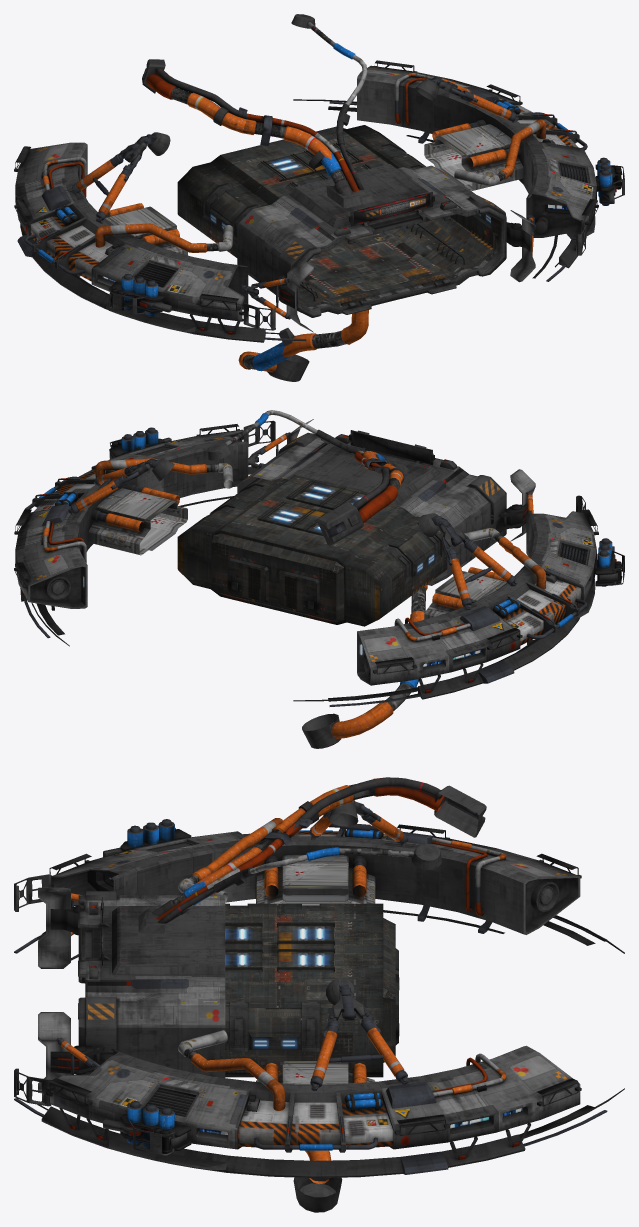
The model's file is station04.fbx.
The picture shows the model from 3 angles, top to bottom: view 1: azimuth 30°, elevation 25°; view 2: azimuth 150°, elevation 25°; view 3: azimuth 270°, elevation 25°; orthographic projection. The views are drawn at different scales.
Parts seen in each view (by area): view 1: Structure; view 2: Structure; view 3: Structure.
Part boxes in pixels (bbox=[...]): Structure: bbox=[14, 14, 624, 381]; Structure: bbox=[14, 410, 624, 748]; Structure: bbox=[14, 777, 624, 1212].
Bounding box in the file's own units: 10296 × 5996 × 8380.
